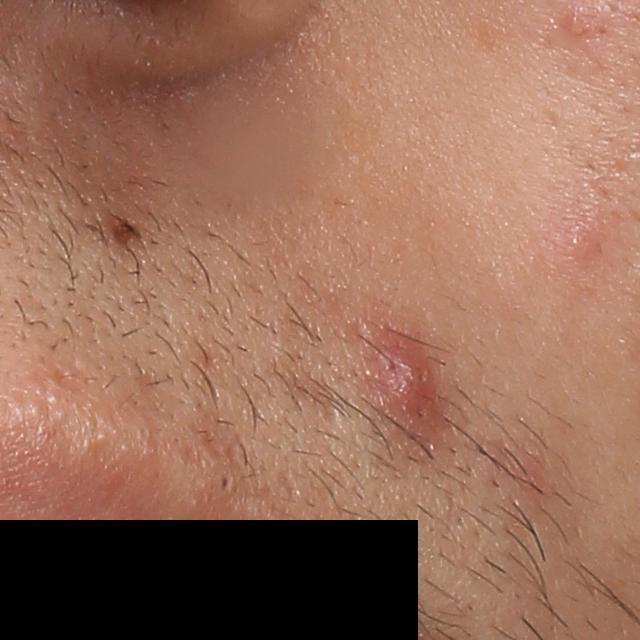nevus: (108, 208, 143, 251)
papule: (367, 326, 442, 441), (557, 211, 613, 269)
